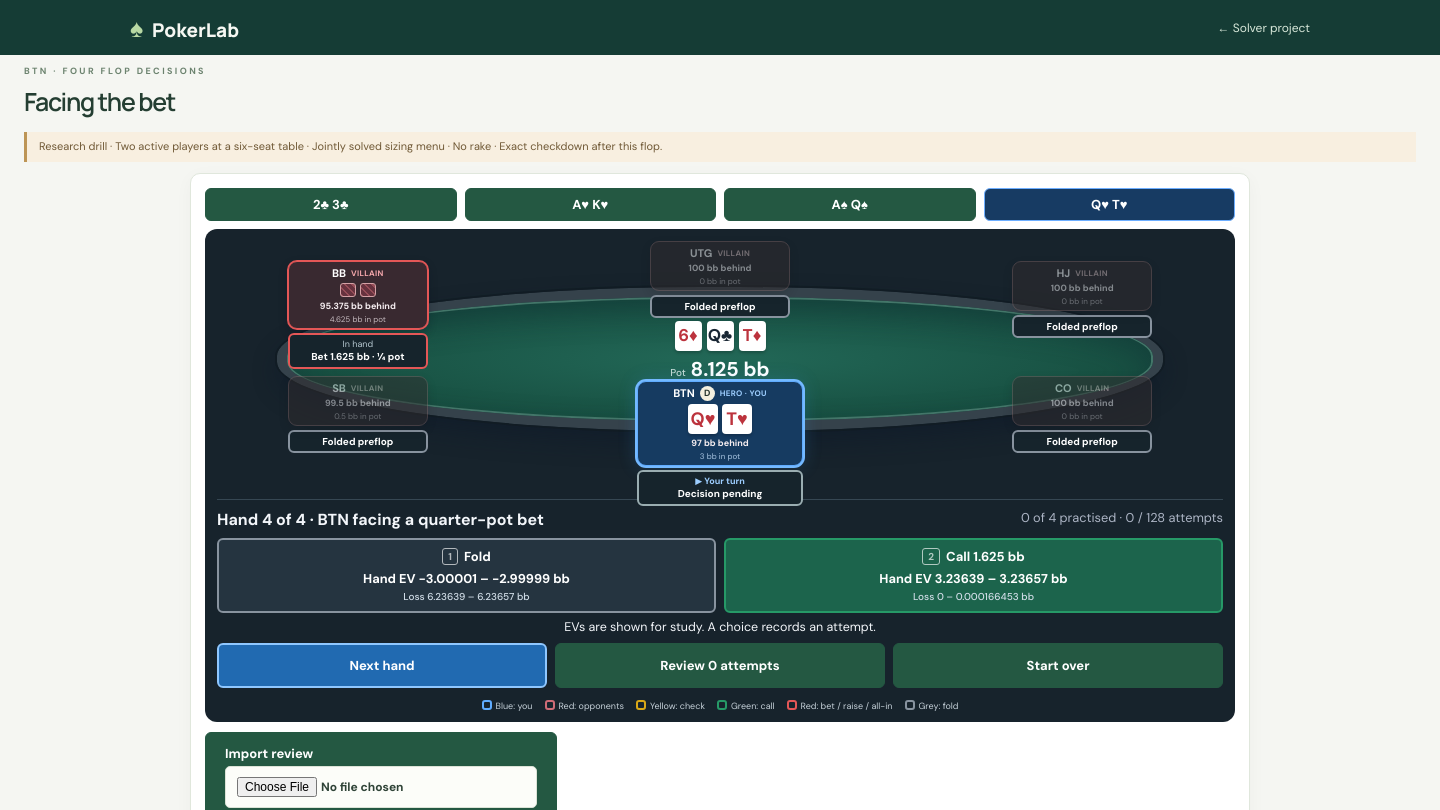
it: keeps values, histories and feedback scoped to each hand while next wraps to the first
Click the button "Call 1.625 bb". click: x=974, y=576
box: [724,538,1223,613]
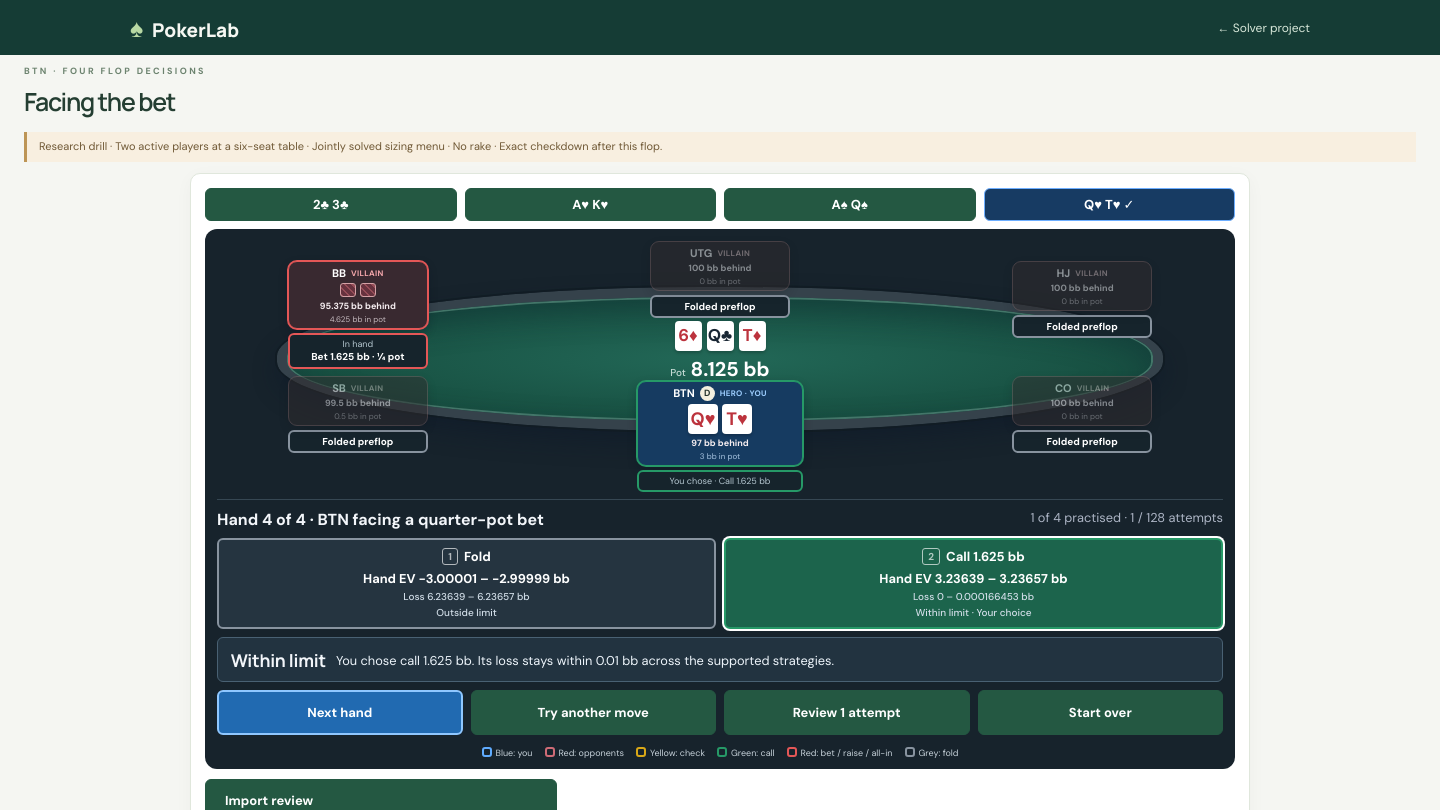
Result: the heading "Within limit" is shown at [231,648,326,672]
Click the button "Next hand". click: x=340, y=713
box: [217,690,462,735]
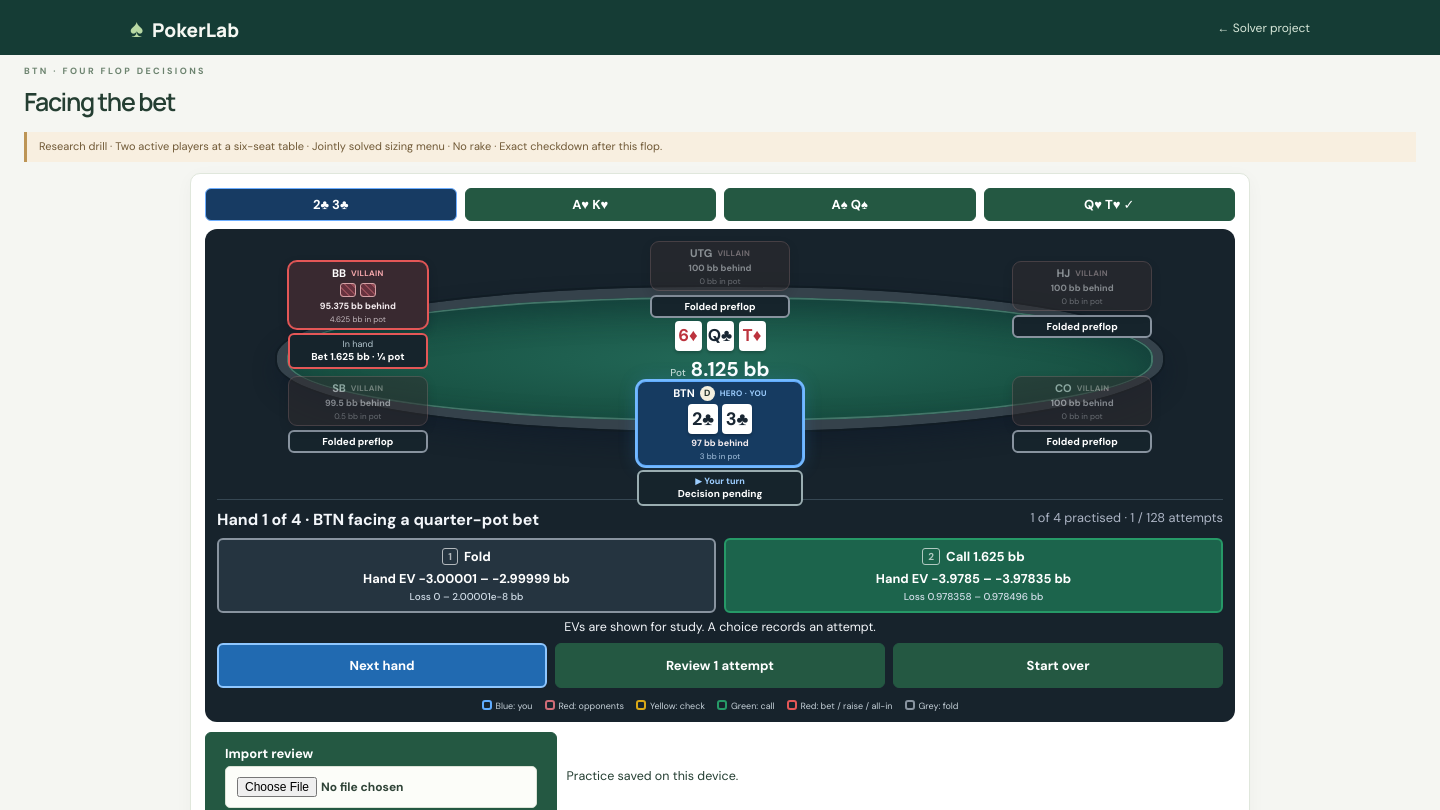
Result: the element named "Your cards" reads "2♣ 3♣" at [688,404,752,434]
Result: the text "Within limit" is gone
Result: the button "Call 1.625 bb" is enabled at [724,538,1223,613]
Click the button "Q♥ T♥ ✓". click: x=1109, y=204
box: [984,188,1235,221]
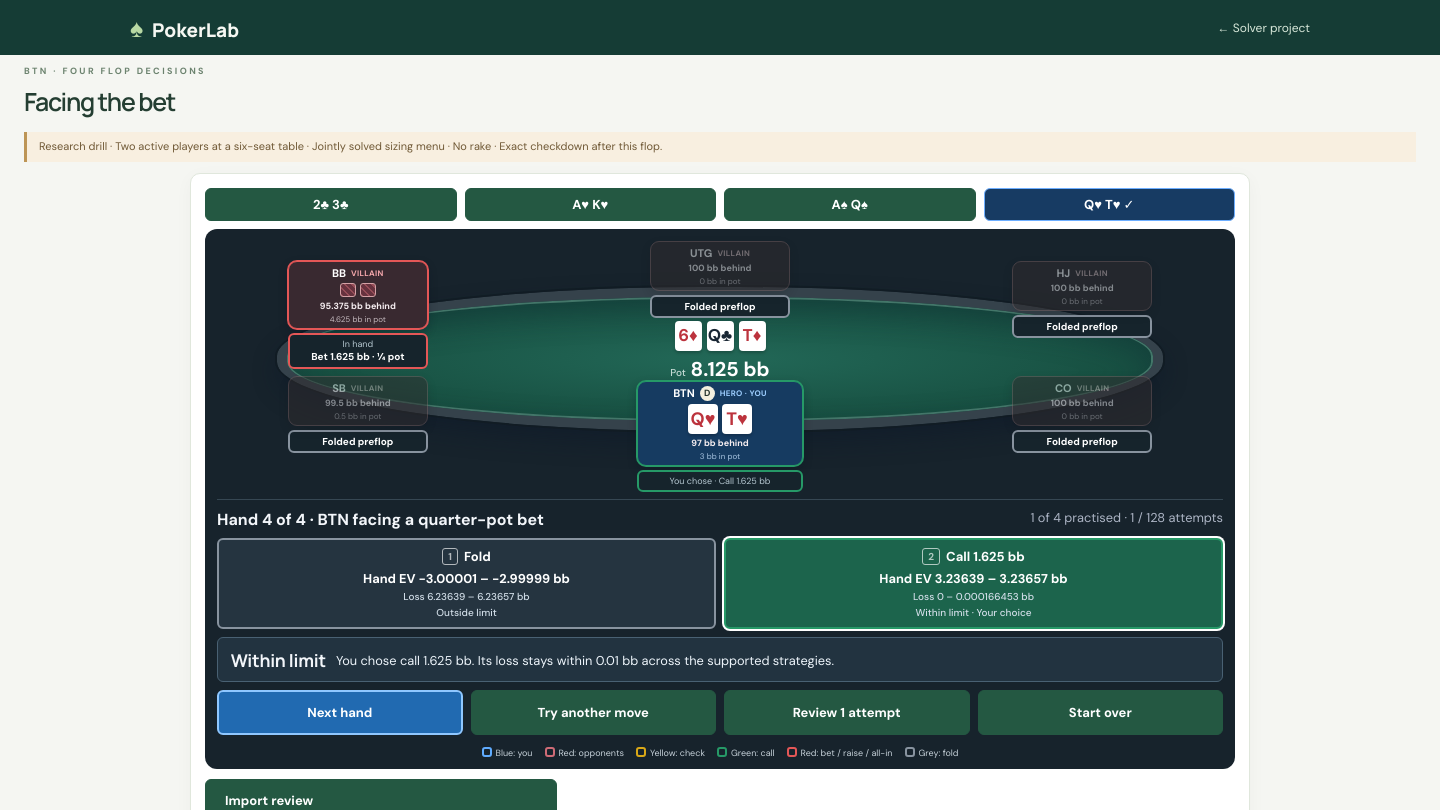
Result: the heading "Within limit" is shown at [231,648,326,672]
